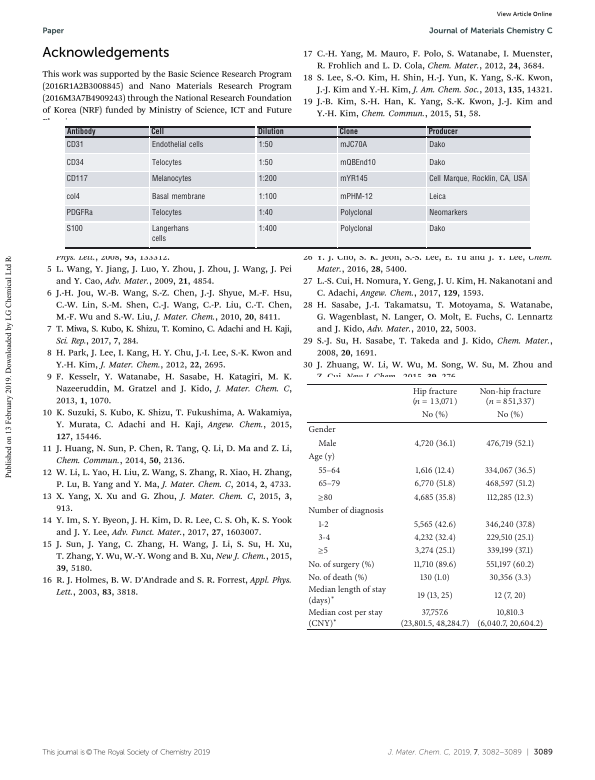borderless: (305, 382, 547, 629), (65, 125, 531, 247)
cell: (307, 584, 387, 606), (307, 607, 383, 629), (400, 607, 470, 629), (476, 607, 544, 629), (479, 386, 542, 409), (412, 386, 458, 409), (428, 174, 528, 184), (307, 505, 385, 516), (150, 224, 189, 244), (307, 559, 375, 569), (307, 572, 368, 583), (484, 465, 537, 476), (484, 519, 536, 530), (485, 438, 535, 449), (486, 532, 535, 543), (485, 479, 536, 489), (150, 192, 206, 201), (485, 559, 535, 569), (150, 140, 204, 149), (413, 438, 457, 449), (413, 519, 457, 530), (413, 532, 457, 543), (488, 572, 532, 583), (486, 492, 534, 502), (486, 546, 534, 556), (415, 465, 455, 476), (413, 492, 457, 502), (413, 559, 457, 569), (414, 479, 456, 489), (414, 546, 456, 556), (150, 174, 192, 184), (428, 208, 468, 218), (416, 590, 454, 600), (419, 572, 451, 583), (339, 208, 373, 218), (339, 224, 373, 234), (339, 158, 376, 167), (307, 424, 337, 435), (494, 590, 527, 600), (150, 208, 182, 218), (307, 451, 336, 462), (65, 127, 96, 137), (427, 127, 458, 137), (339, 192, 373, 201), (339, 174, 368, 184), (150, 158, 182, 167), (421, 410, 449, 420), (496, 410, 524, 420), (256, 127, 284, 137), (65, 208, 93, 218), (317, 465, 341, 476), (339, 140, 367, 149), (317, 479, 341, 489), (317, 489, 333, 504), (65, 174, 88, 184), (317, 438, 337, 449), (338, 127, 358, 137), (257, 174, 277, 184), (257, 224, 277, 234), (317, 542, 329, 558), (257, 192, 277, 201), (65, 224, 83, 234), (428, 224, 446, 234), (65, 140, 84, 149), (65, 158, 84, 167), (428, 140, 446, 149), (428, 158, 446, 167), (428, 192, 446, 201), (257, 208, 273, 218), (317, 532, 331, 543), (257, 140, 273, 149), (257, 158, 273, 167), (150, 127, 164, 137), (65, 192, 80, 201), (317, 519, 329, 530)
